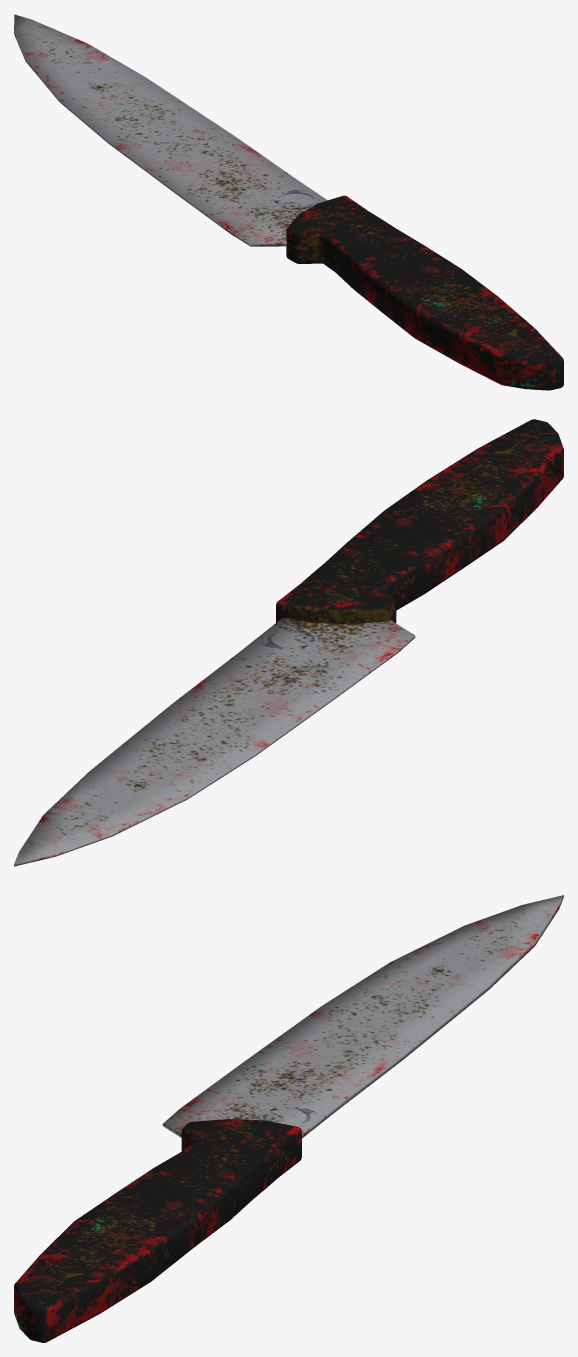
The model's file is knife.glb.
3 renders of one model, top to bottom at view 1: azimuth 30°, elevation 25°; view 2: azimuth 150°, elevation 25°; view 3: azimuth 330°, elevation 25°, orthographic. The views are drawn at different scales.
Parts seen in each view (by area): view 1: Lamina1_low; view 2: Lamina1_low; view 3: Lamina1_low.
Boxes of the visible parts, left/top/right/bottom form: Lamina1_low: left=14, top=14, right=563, bottom=390; Lamina1_low: left=14, top=419, right=563, bottom=866; Lamina1_low: left=14, top=895, right=563, bottom=1342.
Bounding box in the file's own units: 0.0615 × 0.0148 × 0.4363.
Materials: 1 (1 with a texture image).
